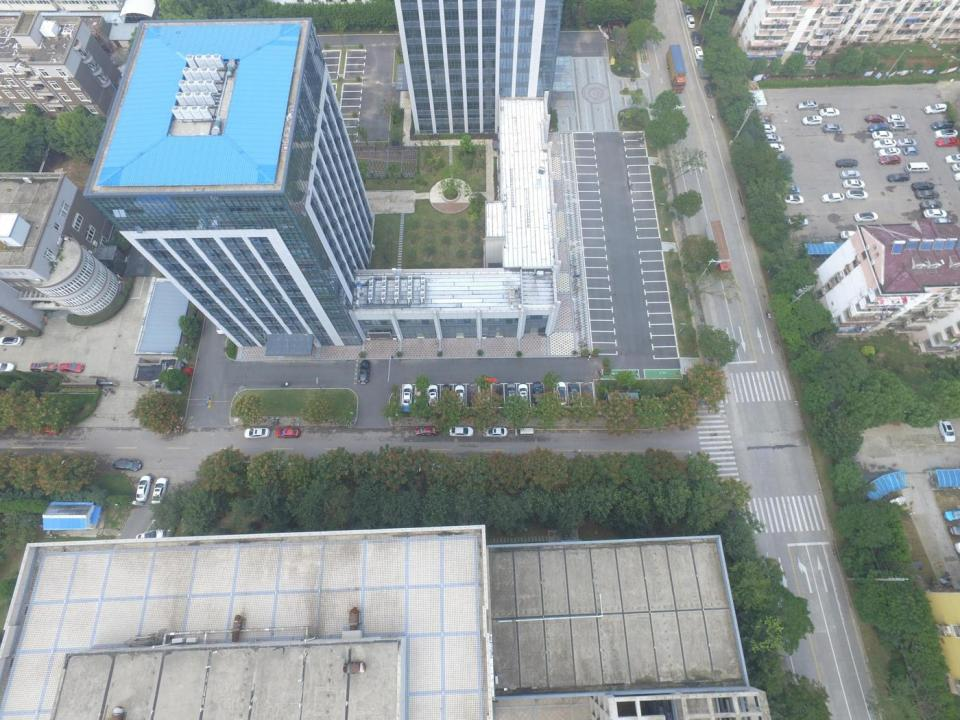car: (936, 417, 956, 443), (135, 475, 152, 502), (152, 477, 168, 505), (113, 459, 143, 471), (136, 529, 166, 541), (35, 423, 61, 436), (448, 425, 474, 437), (359, 360, 371, 384), (933, 128, 959, 139), (872, 138, 898, 149), (244, 427, 270, 438), (897, 560, 922, 571), (532, 381, 543, 406), (482, 426, 507, 437), (275, 427, 300, 438), (30, 362, 57, 372), (0, 336, 24, 347), (886, 172, 910, 183), (916, 189, 940, 200), (919, 199, 943, 210), (568, 383, 580, 405), (58, 362, 84, 372), (924, 103, 947, 114), (936, 137, 959, 148), (402, 384, 413, 407), (427, 385, 439, 406), (820, 192, 845, 202), (923, 208, 948, 218), (556, 381, 566, 406), (854, 212, 878, 222), (930, 120, 954, 130), (877, 147, 901, 157), (842, 179, 865, 189), (871, 130, 894, 140), (518, 383, 528, 406), (415, 426, 438, 436), (763, 143, 785, 153), (801, 115, 823, 125), (823, 123, 843, 134), (836, 158, 858, 168), (888, 122, 910, 132), (506, 383, 516, 405), (783, 195, 804, 205), (455, 385, 465, 406), (845, 190, 868, 199), (878, 156, 901, 165), (943, 509, 960, 521), (756, 124, 776, 134), (886, 114, 906, 124), (760, 134, 782, 143), (797, 101, 819, 110), (818, 108, 840, 117), (896, 138, 918, 147), (912, 182, 936, 190), (840, 230, 859, 240), (780, 185, 801, 194), (442, 385, 451, 406), (866, 124, 889, 132), (929, 218, 952, 226), (865, 114, 885, 123), (902, 146, 920, 156), (0, 361, 16, 372), (838, 170, 860, 178), (786, 218, 808, 226), (754, 115, 772, 124), (944, 153, 960, 163), (693, 46, 704, 60), (689, 31, 700, 45), (771, 154, 790, 162), (685, 14, 695, 29), (704, 84, 715, 97), (682, 1, 691, 13)
truck: (705, 219, 732, 278), (665, 44, 687, 94), (904, 161, 930, 173), (698, 58, 713, 78)
van: (514, 428, 535, 437)
